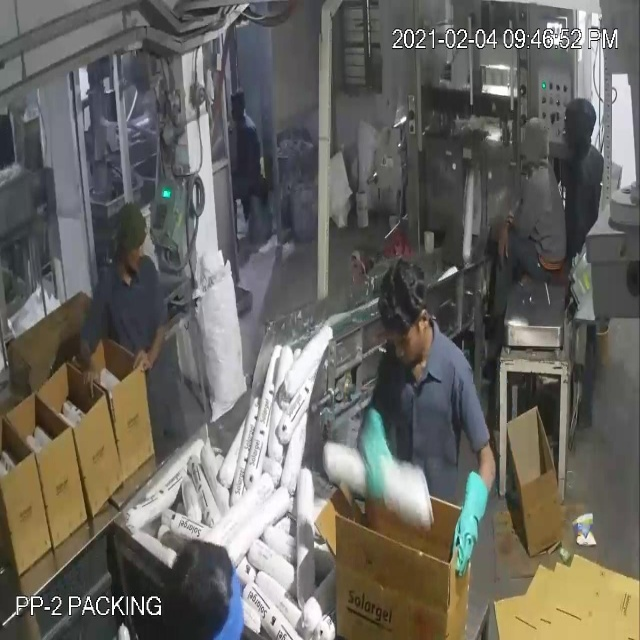Guantes: (448, 436, 493, 596), (353, 393, 396, 508)
Sin_guantes: (128, 308, 185, 394), (68, 316, 100, 395)
